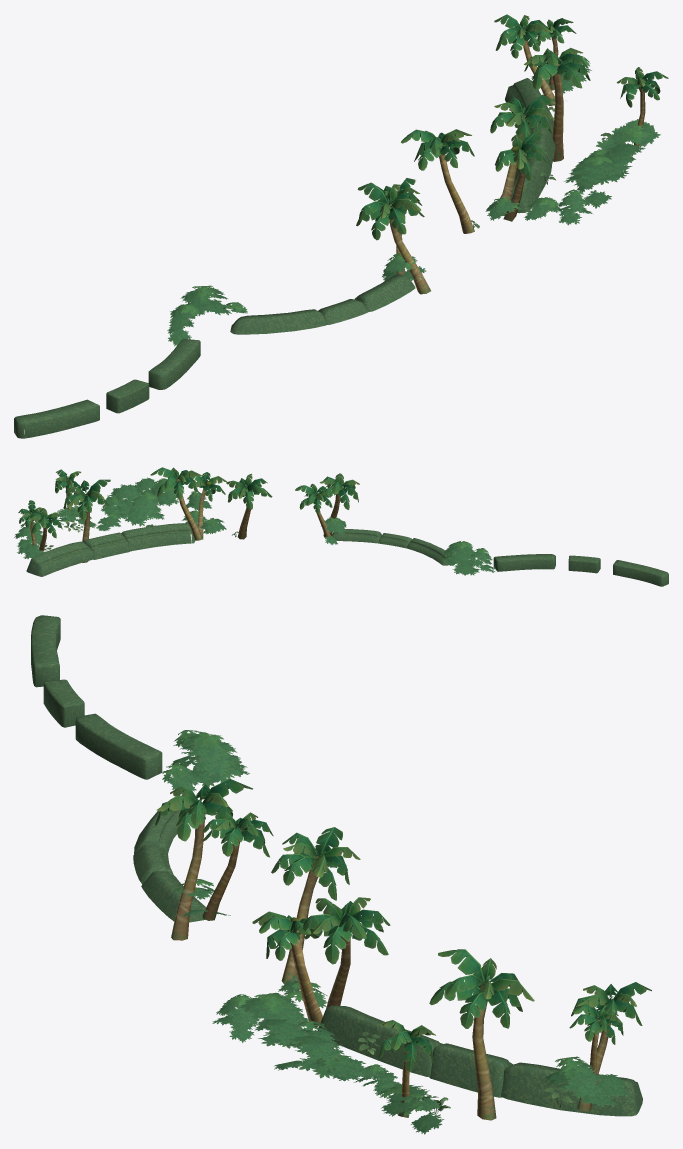
Rendered from pref_sm_4v4pointbake_WSJ_CSD_L01_lv1.fbx.
3 views of the same model, one above another, from view 1: azimuth 30°, elevation 25°; view 2: azimuth 150°, elevation 25°; view 3: azimuth 270°, elevation 25° (orthographic). The views are drawn at different scales.
Parts seen in each view (by area): view 1: sm_4v4pointbake_WSJ_CSD_L01_a_lv1, sm_4v4pointbake_WSJ_CSD_L01_b_lv1; view 2: sm_4v4pointbake_WSJ_CSD_L01_a_lv1, sm_4v4pointbake_WSJ_CSD_L01_b_lv1; view 3: sm_4v4pointbake_WSJ_CSD_L01_a_lv1, sm_4v4pointbake_WSJ_CSD_L01_b_lv1.
Boxes of the visible parts, bbox=[...] form: sm_4v4pointbake_WSJ_CSD_L01_a_lv1: bbox=[167, 14, 668, 346]; sm_4v4pointbake_WSJ_CSD_L01_b_lv1: bbox=[14, 78, 555, 438]; sm_4v4pointbake_WSJ_CSD_L01_a_lv1: bbox=[14, 467, 495, 575]; sm_4v4pointbake_WSJ_CSD_L01_b_lv1: bbox=[26, 523, 668, 586]; sm_4v4pointbake_WSJ_CSD_L01_a_lv1: bbox=[155, 730, 651, 1134]; sm_4v4pointbake_WSJ_CSD_L01_b_lv1: bbox=[31, 615, 642, 1116].
Bounding box in the file's own units: 59.53 × 8.81 × 30.52.
